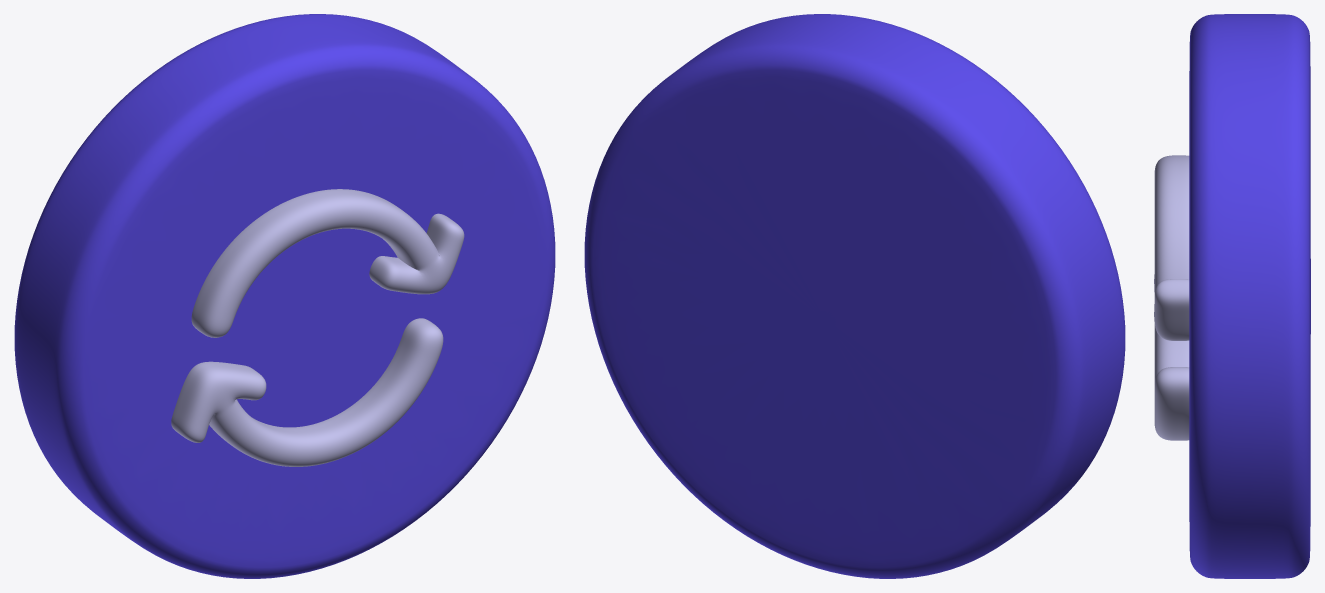
Rendered from syncing-animated-3d-icon-719866322179.glb.
3 renders of one model, left to right at view 1: azimuth 30°, elevation 25°; view 2: azimuth 150°, elevation 25°; view 3: azimuth 270°, elevation 25°, orthographic.
Visible parts, largest first — view 1: Base.003, Circle.001, Circle; view 2: Base.003; view 3: Base.003, Circle, Circle.001.
Boxes of the visible parts, left/top/right/bottom form: Base.003: left=14, top=14, right=555, bottom=578; Circle.001: left=171, top=318, right=443, bottom=466; Circle: left=191, top=189, right=464, bottom=337; Base.003: left=584, top=14, right=1125, bottom=578; Base.003: left=1189, top=14, right=1310, bottom=578; Circle: left=1154, top=155, right=1189, bottom=340; Circle.001: left=1154, top=274, right=1189, bottom=440.
Bounding box in the file's own units: 1.99 × 1.99 × 0.5512.
